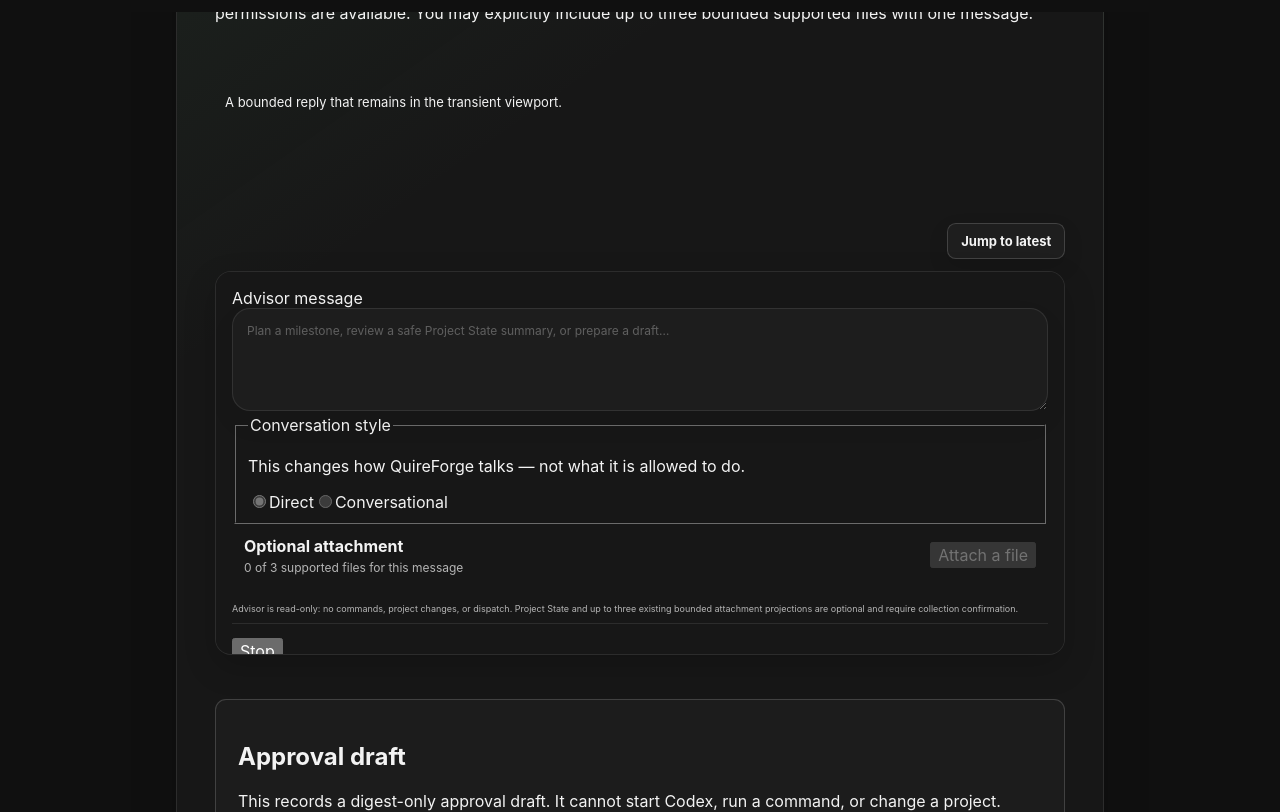
it: AdvisorWorkspace › lets a reader pause follow-latest and jump back to the newest reply
(page scrolled)
Step 1. Click the button "Jump to latest" → (1006, 241), box [947,223,1065,259]
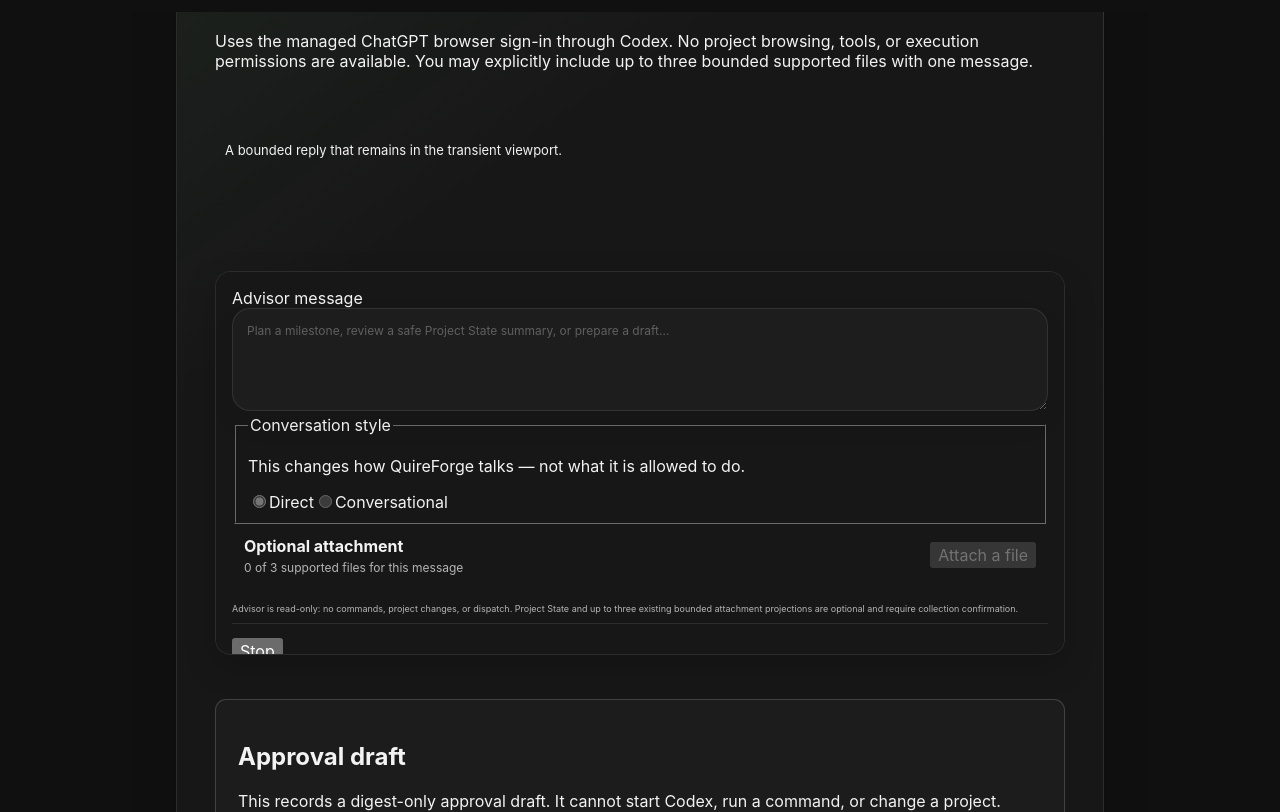
Expected: the element with class "conversation-composer" is shown, [215,271,1065,655]
Result: the button "Jump to latest" is gone
